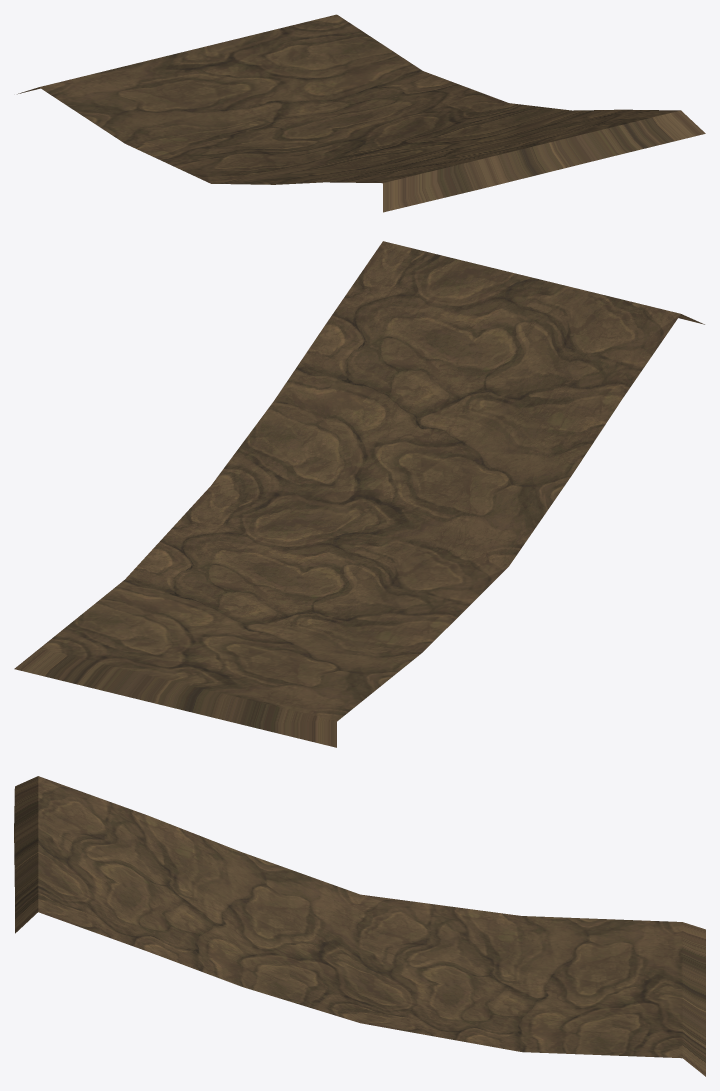
Rendered from cave floor straight slope.FBX.
3 renders of one model, top to bottom at view 1: azimuth 30°, elevation 25°; view 2: azimuth 150°, elevation 25°; view 3: azimuth 270°, elevation 25°, orthographic. The views are drawn at different scales.
Parts seen in each view (by area): view 1: cave floor straight slope; view 2: cave floor straight slope; view 3: cave floor straight slope.
Boxes of the visible parts, x1,y1,x2,y2 form: cave floor straight slope: (17, 14, 705, 212); cave floor straight slope: (14, 241, 704, 747); cave floor straight slope: (14, 776, 705, 1076).
Size of the model in its own units: 21.67 by 10.9 by 42.95.
